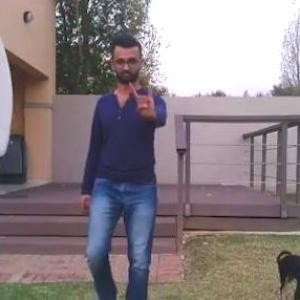takeoff-hand: (123, 72, 169, 122)
